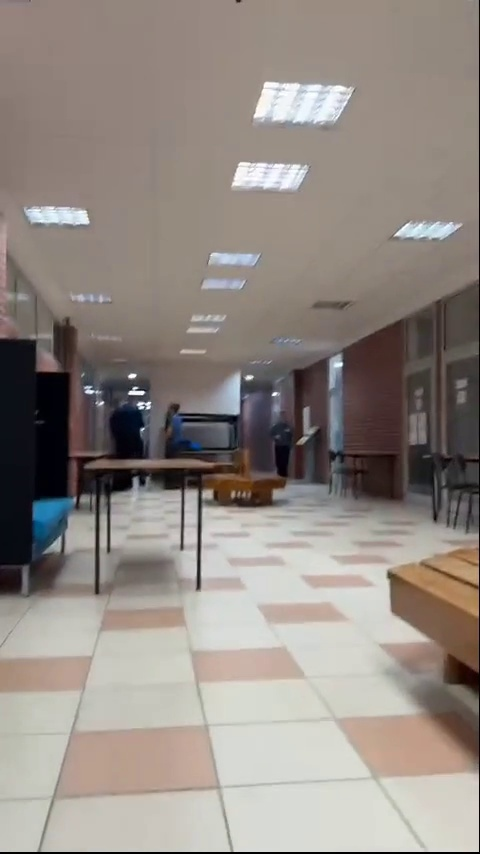no vest: (110, 387, 153, 461), (164, 406, 216, 461), (268, 409, 295, 478)
